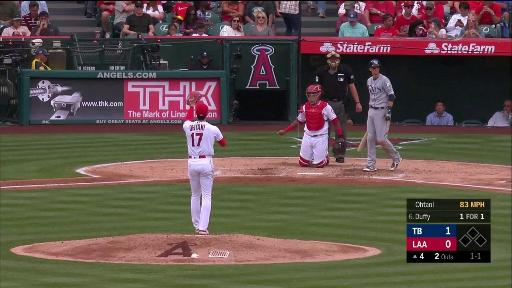pitcher: (182, 90, 227, 234)
